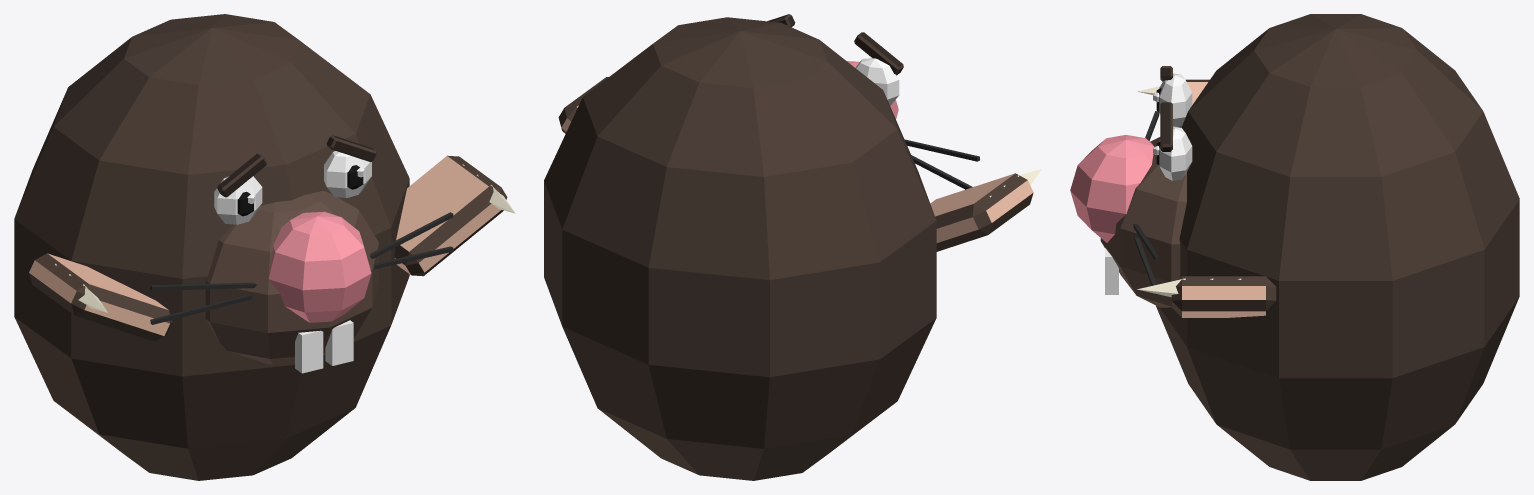
The model's file is maulwurf.glb.
The picture shows the model from 3 angles, left to right: view 1: azimuth 30°, elevation 25°; view 2: azimuth 150°, elevation 25°; view 3: azimuth 270°, elevation 25°; orthographic projection.
Parts seen in each view (by area): view 1: body-m; view 2: body-m; view 3: body-m.
Part boxes in pixels (x1,y1,x2,y2): body-m: [14, 14, 515, 480]; body-m: [544, 14, 1041, 480]; body-m: [1070, 14, 1519, 480].
Bounding box in the file's own units: 1.44 × 1.38 × 1.29.
